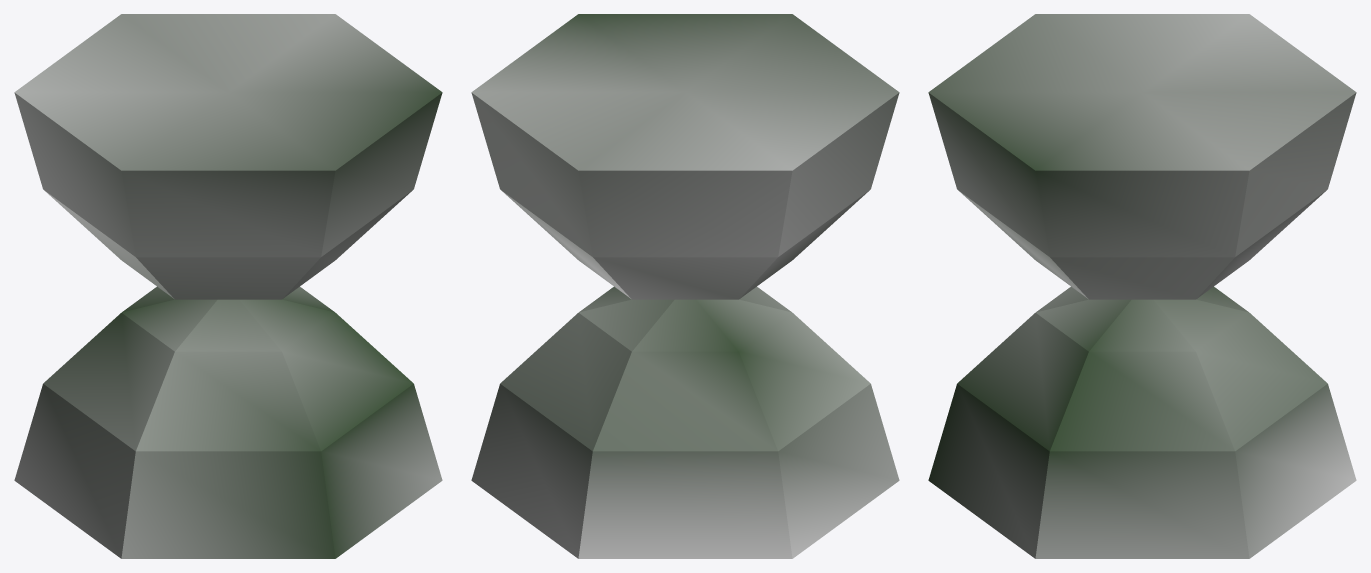
The model's file is ruin_02.fbx.
3 views of the same model, side by side, from view 1: azimuth 30°, elevation 25°; view 2: azimuth 150°, elevation 25°; view 3: azimuth 270°, elevation 25° (orthographic).
Visible parts, largest first — view 1: Ruin_02; view 2: Ruin_02; view 3: Ruin_02.
Part boxes in pixels (x1,y1,x2,y2): Ruin_02: (14,14,442,558); Ruin_02: (471,14,899,558); Ruin_02: (928,14,1356,558).
Bounding box in the file's own units: 17321 × 20010 × 20000.
